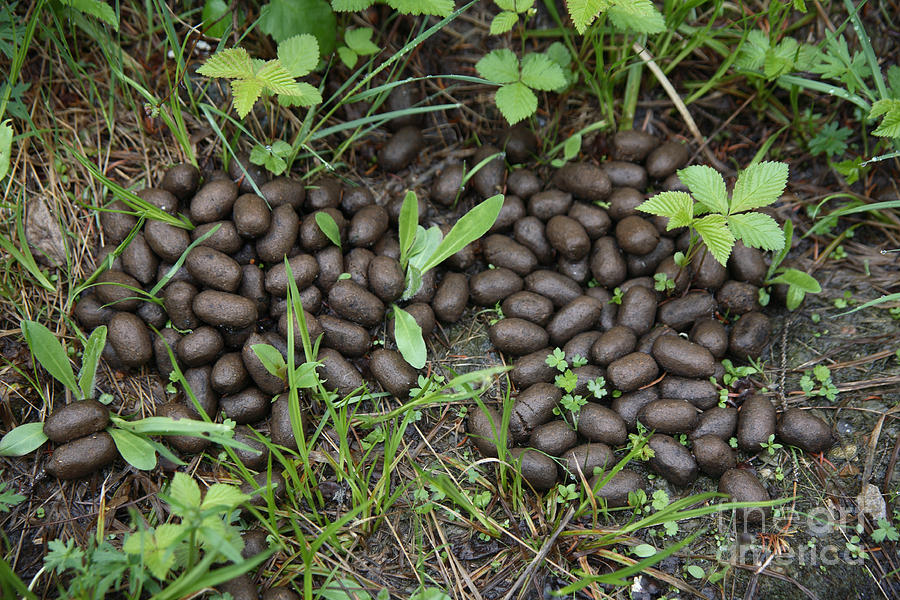Elk: (83, 146, 797, 482)
